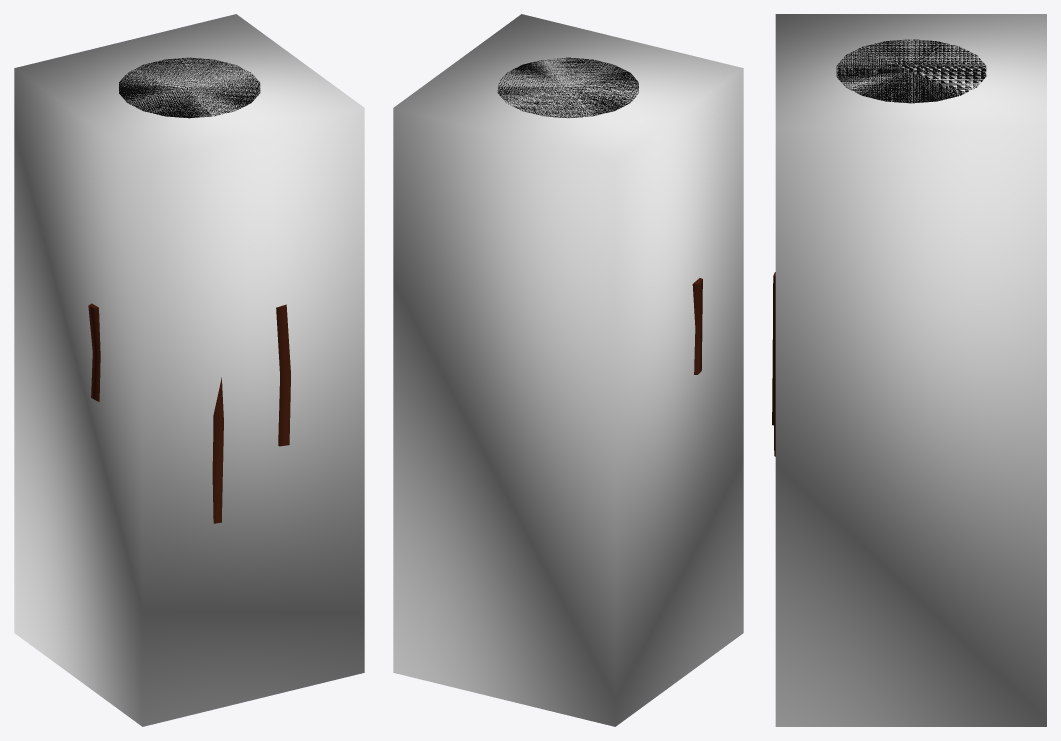
File: yodo.glb
3 renders of one model, left to right at view 1: azimuth 30°, elevation 25°; view 2: azimuth 150°, elevation 25°; view 3: azimuth 270°, elevation 25°, orthographic. The views are drawn at different scales.
Parts seen in each view (by area): view 1: yodo-colcaja, tapon, etiqueta; view 2: yodo-colcaja, tapon, etiqueta; view 3: yodo-colcaja, tapon, etiqueta.
Part boxes in pixels (x1,y1,x2,y2): yodo-colcaja: [14, 14, 364, 726]; tapon: [119, 57, 260, 118]; etiqueta: [88, 303, 290, 523]; yodo-colcaja: [393, 14, 743, 726]; tapon: [497, 57, 638, 118]; etiqueta: [692, 278, 702, 374]; yodo-colcaja: [775, 14, 1046, 726]; tapon: [836, 39, 986, 103]; etiqueta: [772, 272, 775, 456].
Bounding box in the file's own units: 0.0307 × 0.073 × 0.0304.
